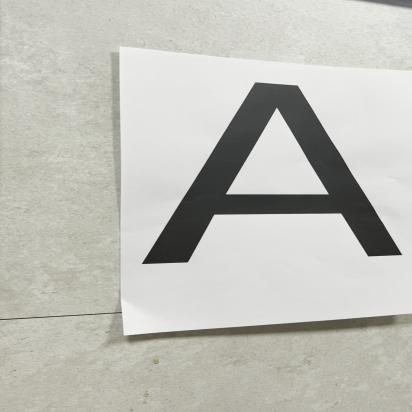seat: (125, 75, 412, 291)
